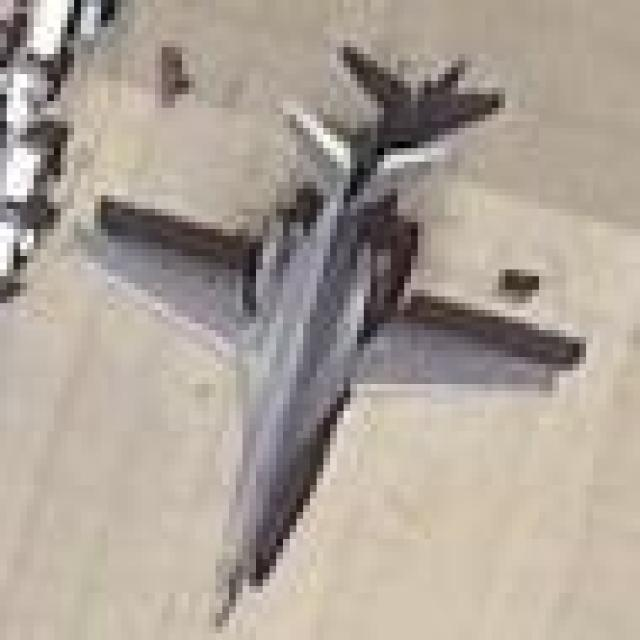B-1_TopDown: (68, 48, 590, 638)
